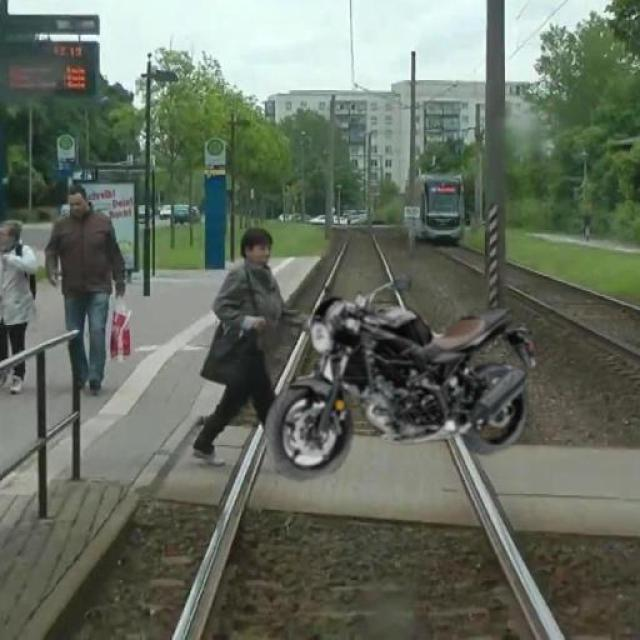people: (200, 225, 294, 468), (44, 184, 134, 395), (0, 214, 46, 392)
vehicle: (269, 285, 532, 472)
